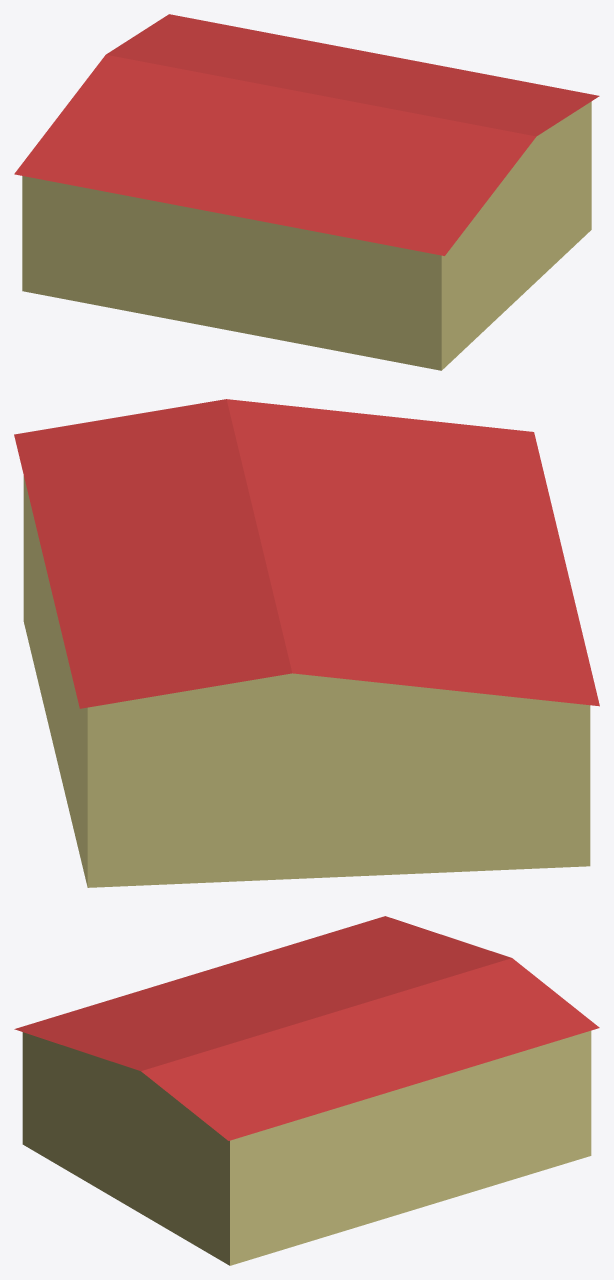
The picture shows the model from 3 angles, top to bottom: view 1: azimuth 30°, elevation 25°; view 2: azimuth 150°, elevation 25°; view 3: azimuth 270°, elevation 25°; orthographic projection. The views are drawn at different scales.
Bounding box in the file's own units: 46.27 × 47.95 × 13.27.
